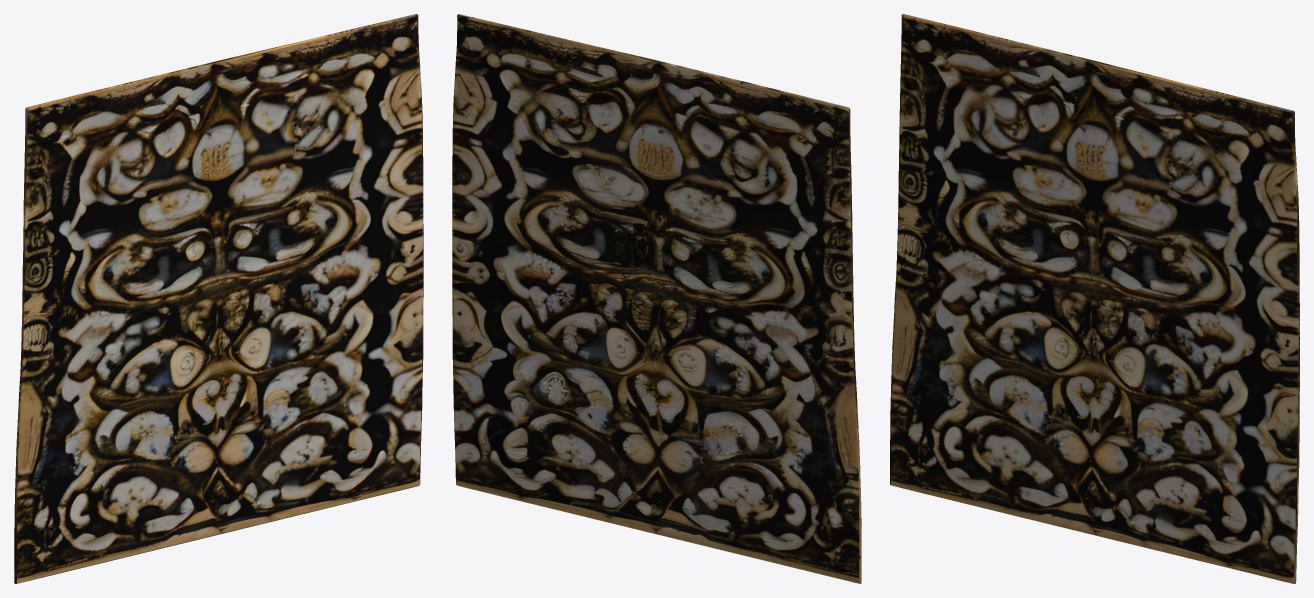
3 renders of one model, left to right at view 1: azimuth 30°, elevation 25°; view 2: azimuth 150°, elevation 25°; view 3: azimuth 330°, elevation 25°, orthographic.
Parts seen in each view (by area): view 1: textured_mesh; view 2: textured_mesh; view 3: textured_mesh.
Boxes of the visible parts, x1,y1,x2,y2 form: textured_mesh: [14, 14, 423, 583]; textured_mesh: [452, 14, 861, 583]; textured_mesh: [890, 14, 1299, 583].
Bounding box in the file's own units: 1.8 × 1.99 × 0.0157.
Materials: 1 (1 with a texture image).
